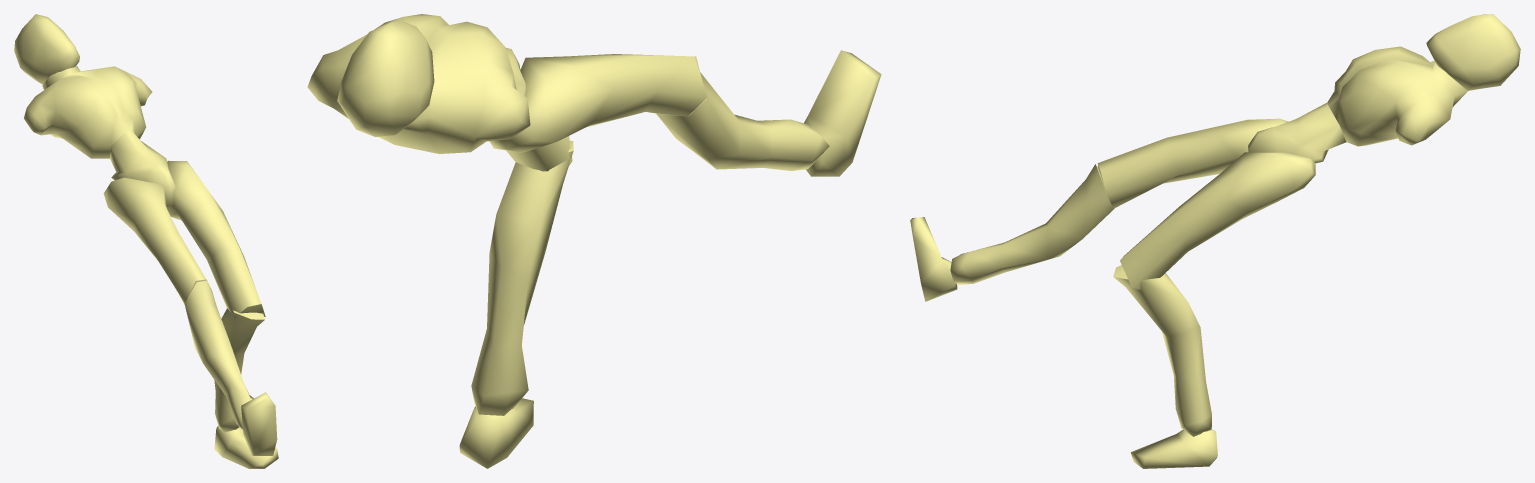
Rendered from filth8.obj.
3 renders of one model, left to right at view 1: azimuth 30°, elevation 25°; view 2: azimuth 150°, elevation 25°; view 3: azimuth 270°, elevation 25°, orthographic. The views are drawn at different scales.
Visible parts, largest first — view 1: Melee_Husk; view 2: Melee_Husk; view 3: Melee_Husk.
Boxes of the visible parts, left/top/right/bottom form: Melee_Husk: left=14, top=14, right=278, bottom=468; Melee_Husk: left=307, top=14, right=881, bottom=468; Melee_Husk: left=910, top=14, right=1520, bottom=468.
Bounding box in the file's own units: 22.88 × 57.37 × 76.95.
